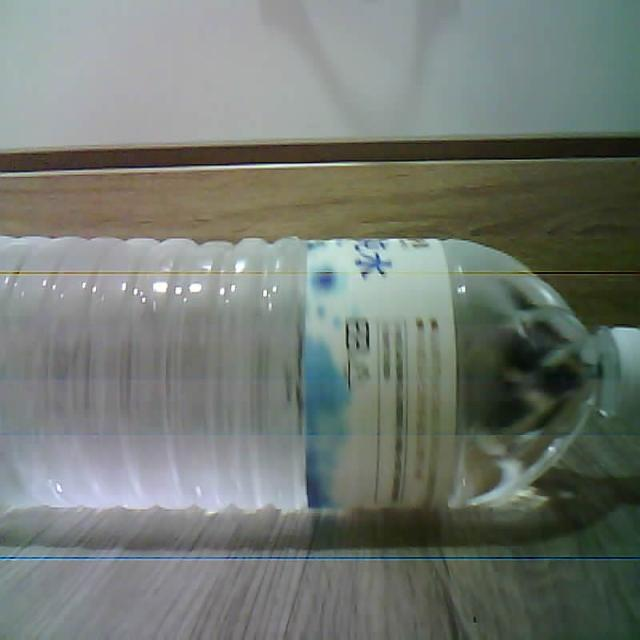bottle: (0, 236, 639, 511)
